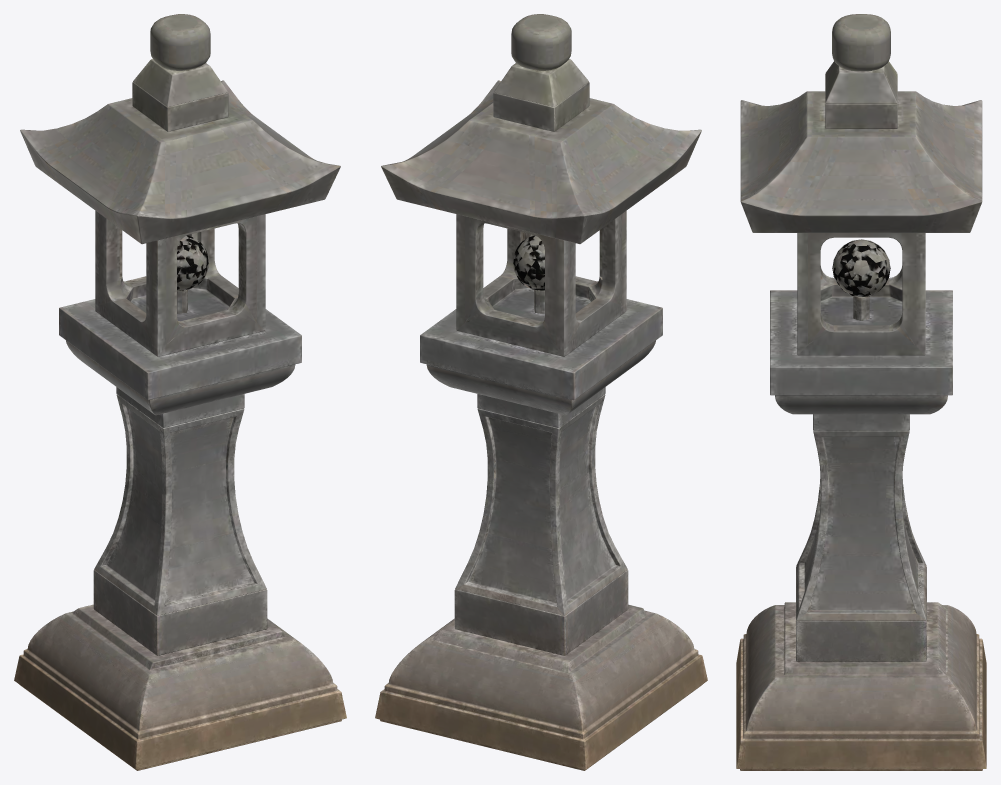
The model's file is lantern_tall.glb.
3 views of the same model, side by side, from view 1: azimuth 30°, elevation 25°; view 2: azimuth 150°, elevation 25°; view 3: azimuth 270°, elevation 25° (orthographic). The views are drawn at different scales.
Parts seen in each view (by area): view 1: lantern_tall; view 2: lantern_tall; view 3: lantern_tall.
Boxes of the visible parts, bbox=[...] form: lantern_tall: bbox=[14, 14, 346, 770]; lantern_tall: bbox=[375, 14, 707, 770]; lantern_tall: bbox=[736, 14, 986, 770].
Bounding box in the file's own units: 0.4833 × 1.49 × 0.4833.
Materials: 1 (1 with a texture image).
